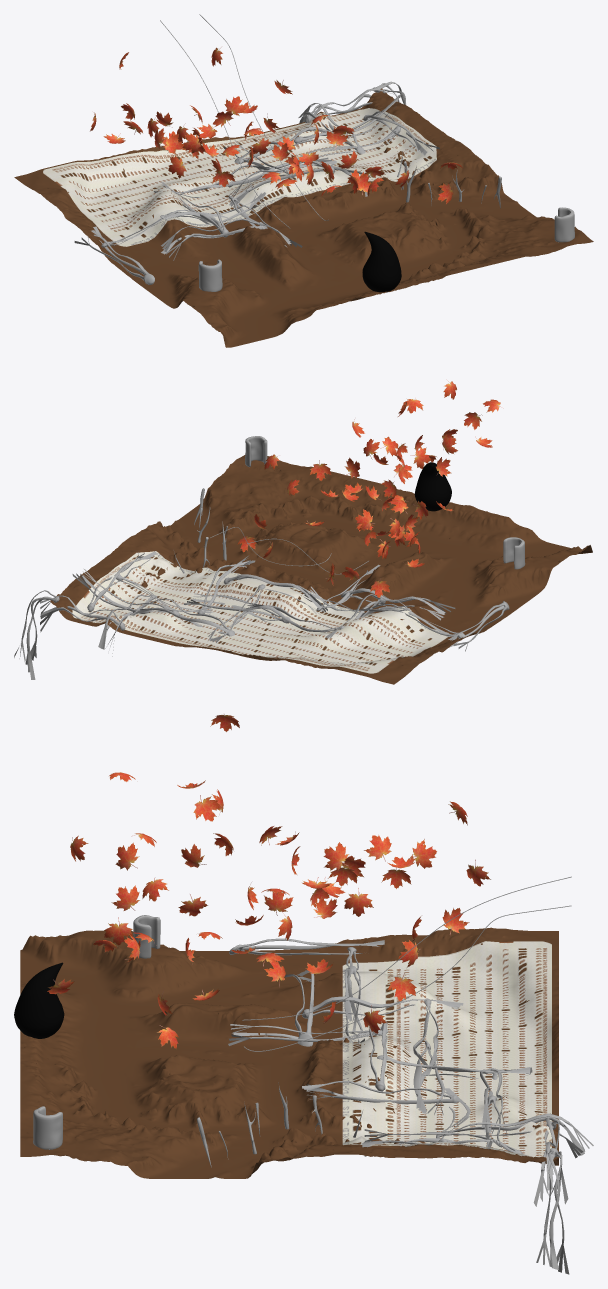
Rendered from order.fbx.
The picture shows the model from 3 angles, top to bottom: view 1: azimuth 30°, elevation 25°; view 2: azimuth 150°, elevation 25°; view 3: azimuth 270°, elevation 25°; orthographic projection. The views are drawn at different scales.
Parts seen in each view (by area): view 1: terr, programmercard, blood_drop, tendrils24, tendrils28, plaster_cast_pipe, plaster_cast_pipe1, tendrils26, tendrils1, tendrils19, tendrils22, tendrils3 (+4 smaller); view 2: terr, programmercard, blood_drop, tendrils, tendrils24, tendrils1, tendrils17, tendrils21, plaster_cast_pipe1, tendrils19, tendrils5, tendrils22 (+7 smaller); view 3: terr, programmercard, blood_drop, tendrils, tendrils4, tendrils28, plaster_cast_pipe, tendrils20, tendrils25, tendrils1, tendrils3, plaster_cast_pipe1 (+3 smaller).
Boxes of the visible parts, x1=… form: terr: x1=14, y1=88, x2=593, y2=347; programmercard: x1=43, y1=108, x2=436, y2=246; blood_drop: x1=362, y1=231, x2=401, y2=292; tendrils24: x1=161, y1=218, x2=267, y2=260; tendrils28: x1=74, y1=226, x2=154, y2=284; plaster_cast_pipe: x1=554, y1=207, x2=574, y2=242; plaster_cast_pipe1: x1=198, y1=259, x2=222, y2=291; tendrils26: x1=160, y1=192, x2=265, y2=225; tendrils1: x1=305, y1=88, x2=397, y2=122; tendrils19: x1=229, y1=161, x2=334, y2=207; tendrils22: x1=171, y1=165, x2=274, y2=197; tendrils3: x1=363, y1=111, x2=439, y2=155; terr: x1=50, y1=455, x2=592, y2=684; programmercard: x1=72, y1=551, x2=448, y2=673; blood_drop: x1=414, y1=462, x2=451, y2=511; tendrils: x1=14, y1=590, x2=59, y2=679; tendrils24: x1=341, y1=588, x2=455, y2=620; tendrils1: x1=40, y1=595, x2=125, y2=632; tendrils17: x1=130, y1=598, x2=234, y2=636; tendrils21: x1=183, y1=593, x2=290, y2=623; plaster_cast_pipe1: x1=503, y1=537, x2=525, y2=569; tendrils19: x1=223, y1=574, x2=327, y2=615; tendrils5: x1=72, y1=568, x2=179, y2=616; tendrils22: x1=243, y1=602, x2=344, y2=632; terr: x1=20, y1=927, x2=558, y2=1178; programmercard: x1=342, y1=941, x2=551, y2=1157; blood_drop: x1=14, y1=962, x2=64, y2=1038; tendrils: x1=536, y1=1148, x2=569, y2=1274; tendrils4: x1=436, y1=1113, x2=593, y2=1158; tendrils28: x1=229, y1=938, x2=384, y2=955; plaster_cast_pipe: x1=33, y1=1106, x2=62, y2=1149; tendrils20: x1=302, y1=1081, x2=459, y2=1104; tendrils25: x1=228, y1=1024, x2=388, y2=1045; tendrils1: x1=533, y1=1117, x2=568, y2=1206; tendrils3: x1=362, y1=1129, x2=522, y2=1156; plaster_cast_pipe1: x1=132, y1=915, x2=160, y2=958.
Size of the model in its own units: 224 by 153 by 215.
6 materials, 2 textured.
